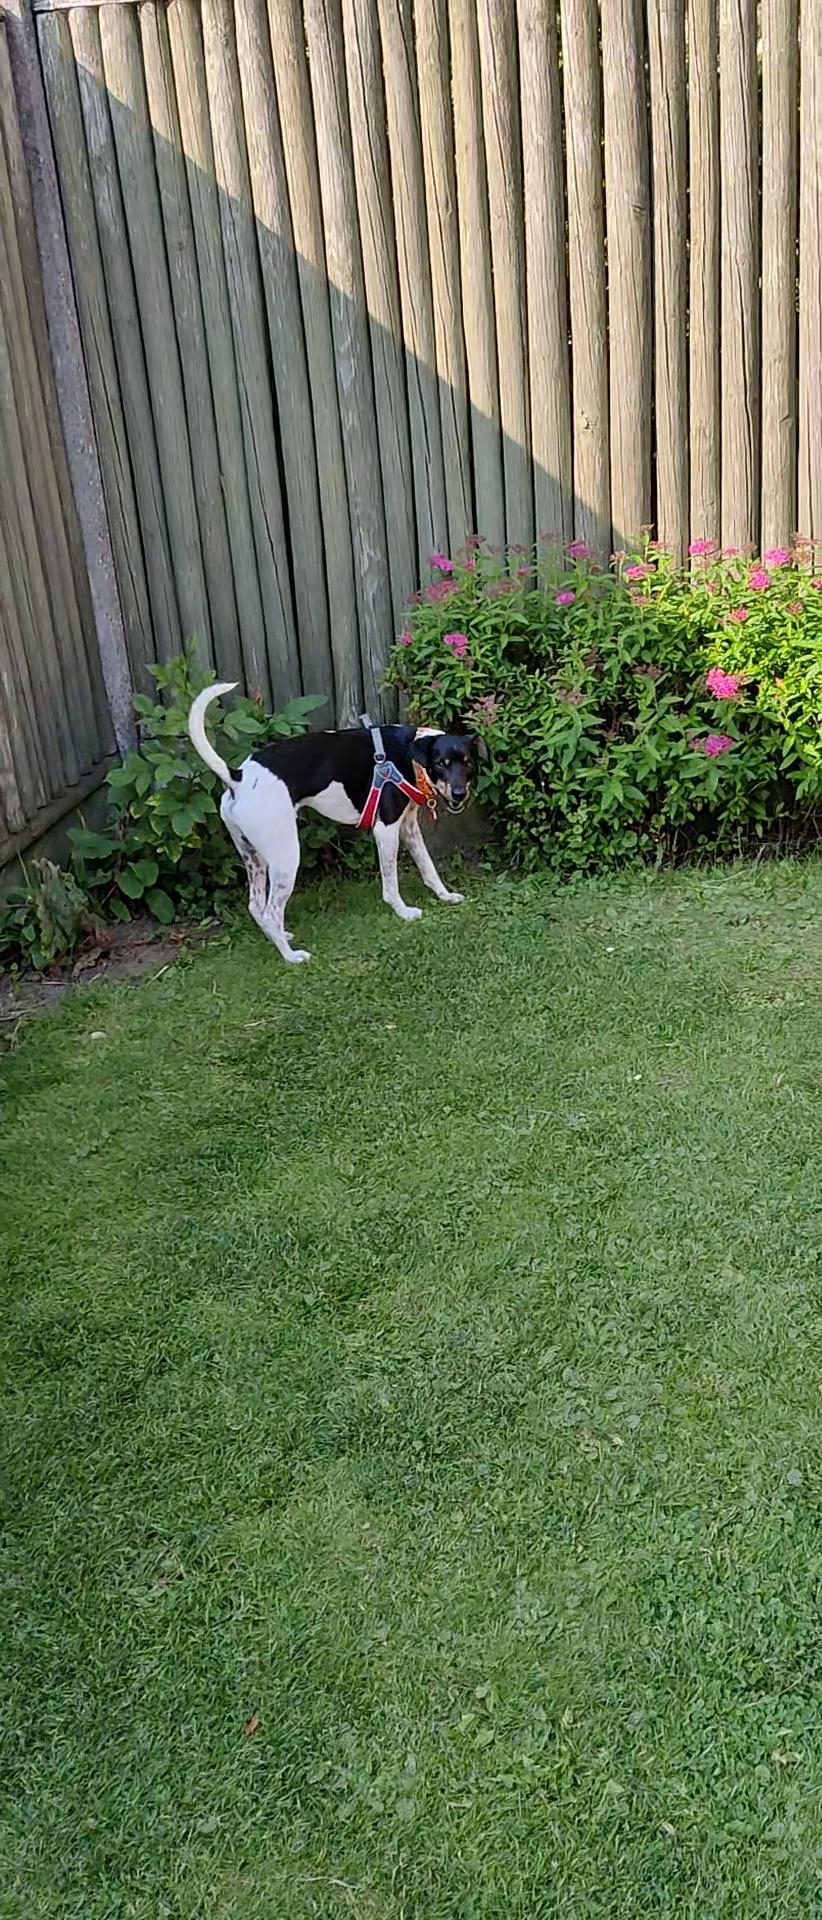Dog: (174, 673, 496, 967)
